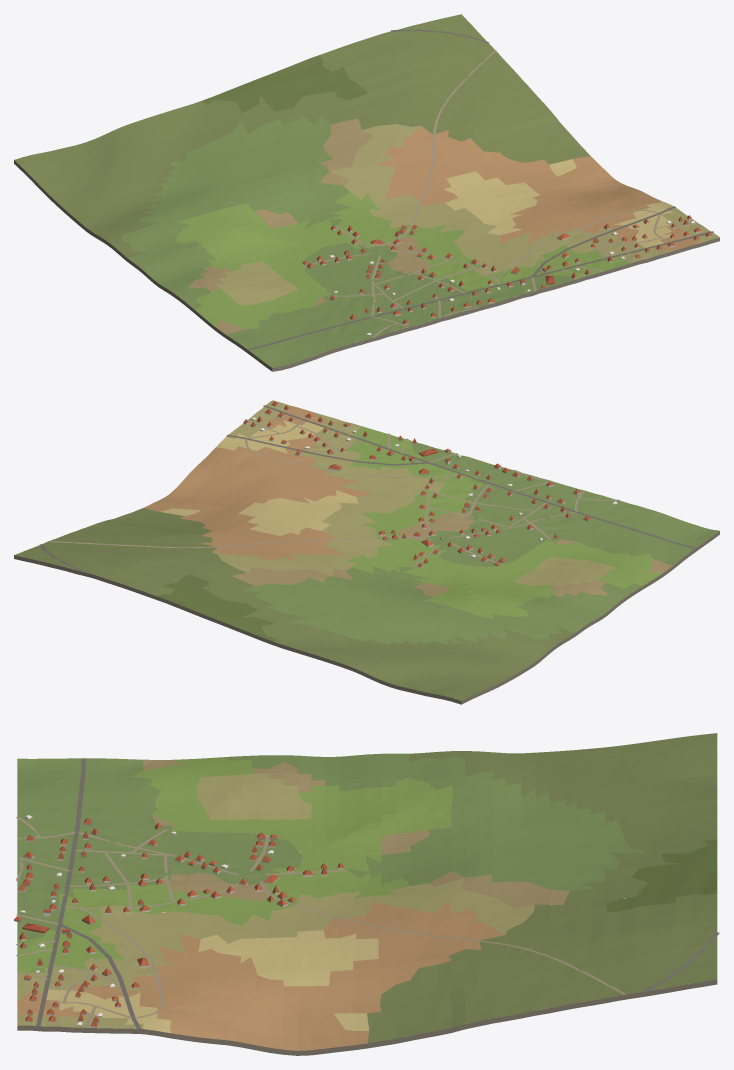
File: parca_+6_-2-uzak.glb
The picture shows the model from 3 angles, top to bottom: view 1: azimuth 30°, elevation 25°; view 2: azimuth 150°, elevation 25°; view 3: azimuth 270°, elevation 25°; orthographic projection. The views are drawn at different scales.
Parts seen in each view (by area): view 1: parca_+6_-2_arazi_uzak, parca_+6_-2_yollar_uzak, parca_+6_-2_yapilar_uzak; view 2: parca_+6_-2_arazi_uzak, parca_+6_-2_yollar_uzak, parca_+6_-2_yapilar_uzak; view 3: parca_+6_-2_arazi_uzak, parca_+6_-2_yollar_uzak, parca_+6_-2_yapilar_uzak.
Part boxes in pixels (x1,y1,x2,y2): parca_+6_-2_arazi_uzak: (14,14,719,371); parca_+6_-2_yollar_uzak: (247,29,713,350); parca_+6_-2_yapilar_uzak: (302,215,712,335); parca_+6_-2_arazi_uzak: (14,400,719,704); parca_+6_-2_yollar_uzak: (40,405,695,572); parca_+6_-2_yapilar_uzak: (243,401,617,567); parca_+6_-2_arazi_uzak: (17,733,717,1055); parca_+6_-2_yollar_uzak: (15,758,719,1029); parca_+6_-2_yapilar_uzak: (14,815,343,1027).
Bounding box in the file's own units: 1003 × 129 × 1008.
